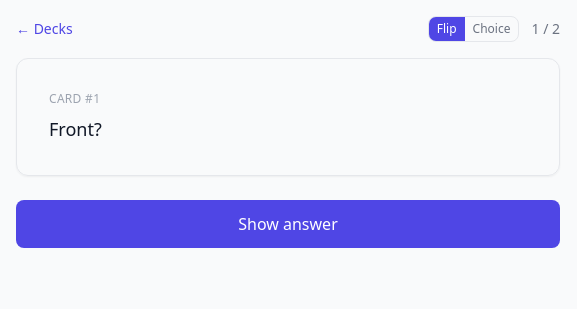
Test: StudyPage › Choice mode (Spec 01/08) › switching mode persists the choice
The image size is (577, 309).
Click the button "Choice": (492, 29) x1=465 y1=17 x2=518 y2=41
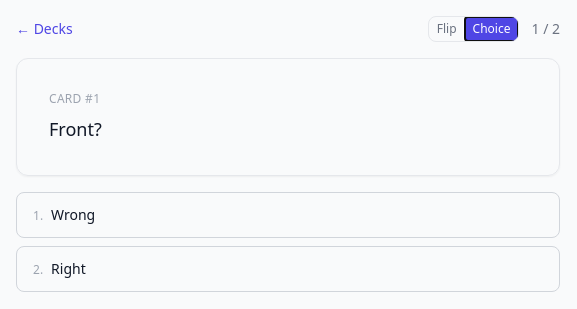
Now the button "2.Right" is shown, box x1=16 y1=246 x2=560 y2=292
